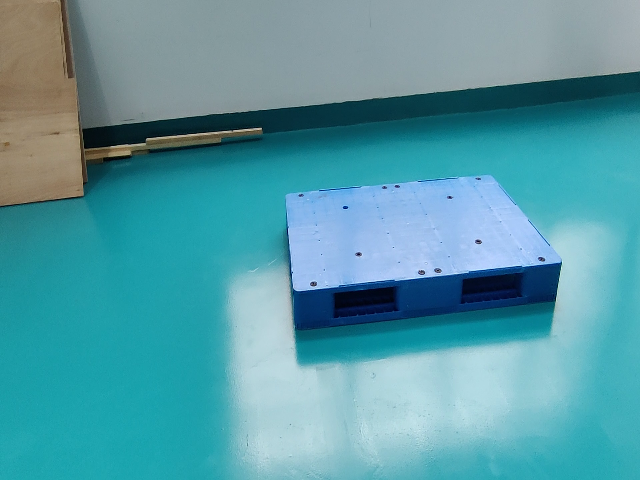block: (394, 274, 461, 316), (294, 289, 332, 332), (524, 262, 559, 302)
